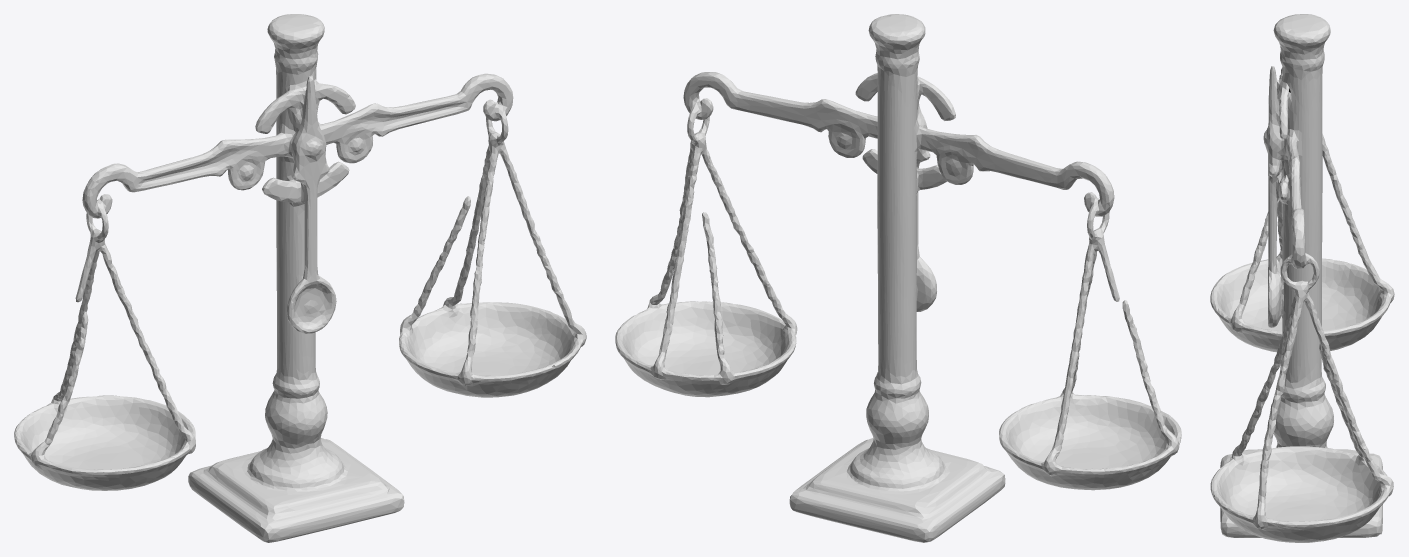
Rendered from scale01.glb.
3 renders of one model, left to right at view 1: azimuth 30°, elevation 25°; view 2: azimuth 150°, elevation 25°; view 3: azimuth 270°, elevation 25°, orthographic.
Parts seen in each view (by area): view 1: Low; view 2: Low; view 3: Low.
Part boxes in pixels (left/top/right/bottom): Low: left=14, top=14, right=586, bottom=542; Low: left=615, top=14, right=1181, bottom=542; Low: left=1210, top=14, right=1394, bottom=542.
Bounding box in the file's own units: 1.99 × 1.67 × 0.5782.
1 material, 1 textured.
